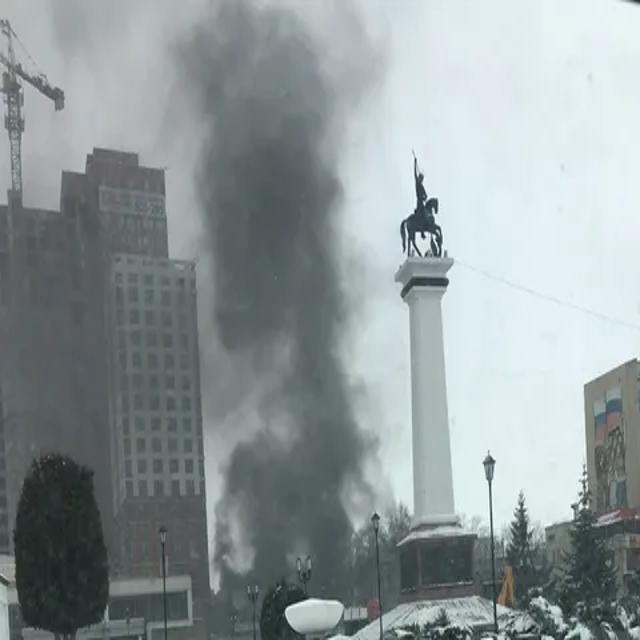Smoke: (172, 2, 380, 598)
